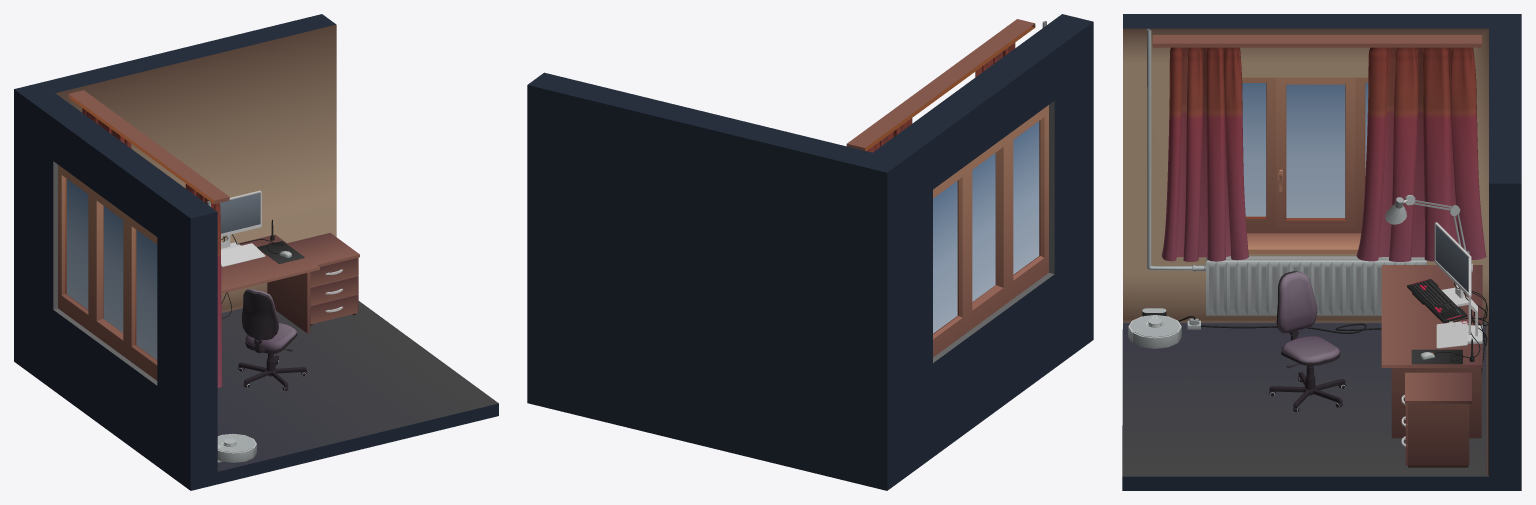
The model's file is vertexpaint.fbx.
3 views of the same model, side by side, from view 1: azimuth 30°, elevation 25°; view 2: azimuth 150°, elevation 25°; view 3: azimuth 270°, elevation 25° (orthographic). The views are drawn at different scales.
Visible parts, largest first — view 1: body1, window4, window, table, cabin, railing, chair_body, _________6, emis, vacuum1, pillows, tablet (+1 smaller); view 2: body1, window4, window, railing; view 3: body1, _________6, window4, window, radiator, table, cabin, railing, pillows, vacuum1, chair_body, emis (+7 smaller).
Part boxes in pixels (x1=…): body1: x1=14, y1=14, x2=498, y2=490; window4: x1=66, y1=179, x2=157, y2=359; window: x1=58, y1=165, x2=157, y2=380; table: x1=221, y1=234, x2=319, y2=333; cabin: x1=287, y1=233, x2=359, y2=325; railing: x1=68, y1=90, x2=229, y2=204; chair_body: x1=238, y1=290, x2=306, y2=390; _________6: x1=82, y1=108, x2=222, y2=387; emis: x1=218, y1=193, x2=281, y2=447; vacuum1: x1=217, y1=434, x2=256, y2=462; pillows: x1=245, y1=289, x2=296, y2=349; tablet: x1=221, y1=243, x2=265, y2=266; body1: x1=527, y1=14, x2=1093, y2=490; window4: x1=933, y1=121, x2=1039, y2=333; window: x1=933, y1=105, x2=1048, y2=357; railing: x1=846, y1=19, x2=1035, y2=151; body1: x1=1122, y1=14, x2=1521, y2=490; _________6: x1=1161, y1=47, x2=1486, y2=261; window4: x1=1242, y1=82, x2=1368, y2=217; window: x1=1242, y1=77, x2=1368, y2=253; radiator: x1=1147, y1=28, x2=1426, y2=315; table: x1=1381, y1=265, x2=1482, y2=438; cabin: x1=1405, y1=372, x2=1471, y2=467; railing: x1=1152, y1=35, x2=1481, y2=47; pillows: x1=1278, y1=272, x2=1339, y2=362; vacuum1: x1=1128, y1=308, x2=1198, y2=348; chair_body: x1=1269, y1=271, x2=1345, y2=412; emis: x1=1152, y1=225, x2=1468, y2=353.
Bounding box in the file's own units: 25.71 × 21.79 × 25.58.
